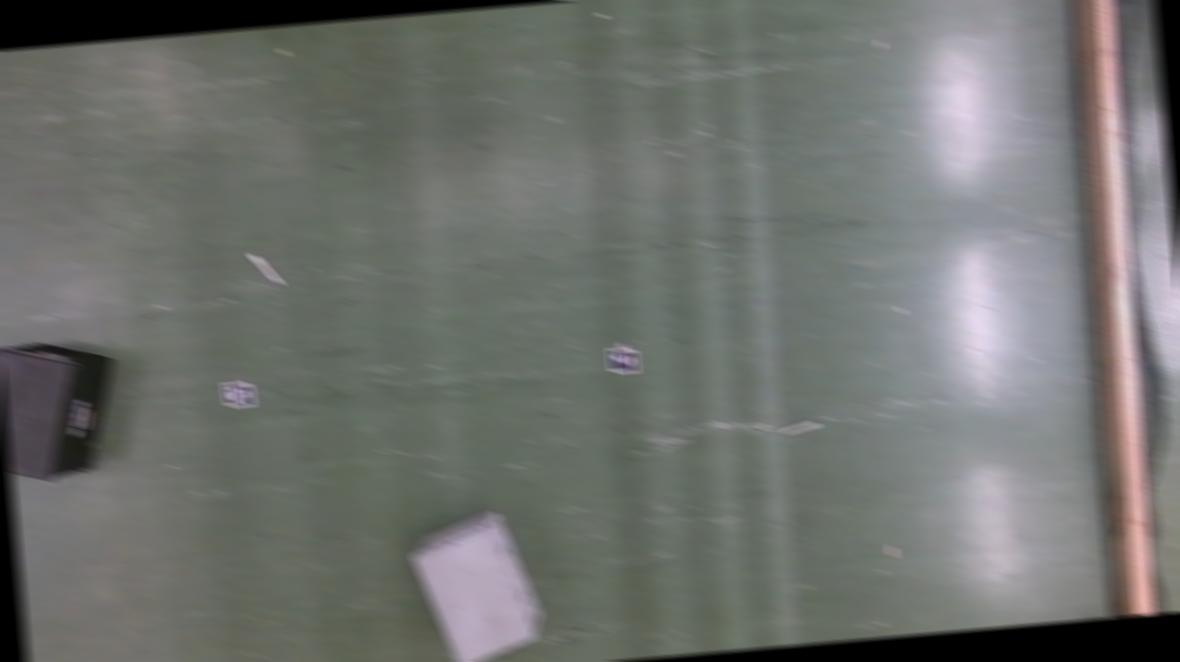probes: (252, 250, 282, 284)
rako: (407, 503, 545, 662), (0, 335, 123, 483)
